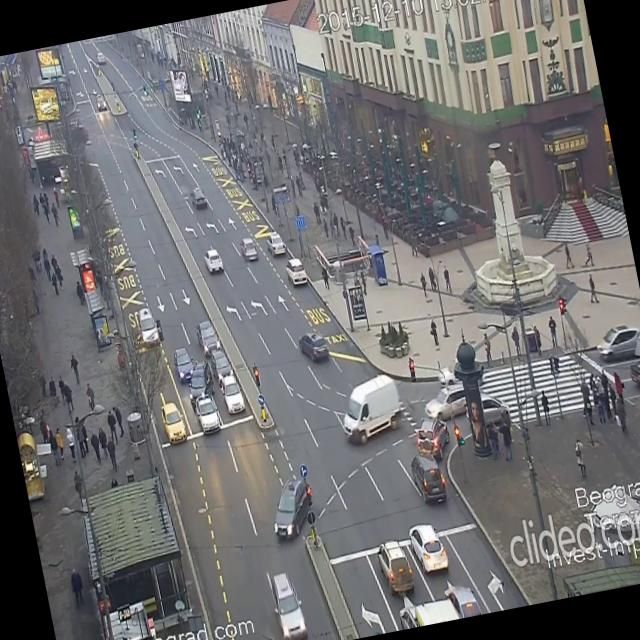bus: (404, 602, 463, 629)
car: (335, 375, 404, 438), (265, 474, 320, 542), (265, 566, 309, 640), (375, 537, 416, 598), (407, 520, 450, 576), (419, 376, 472, 421), (464, 393, 516, 438), (411, 448, 446, 501), (411, 412, 451, 458), (445, 578, 481, 620), (598, 324, 640, 357), (184, 357, 210, 407), (160, 400, 188, 445), (220, 374, 246, 418), (298, 329, 330, 364), (198, 322, 225, 357), (196, 398, 222, 434), (211, 351, 236, 388), (138, 309, 160, 345), (284, 256, 308, 287), (203, 247, 225, 275), (238, 236, 258, 263), (174, 352, 193, 379), (265, 230, 286, 254), (190, 186, 208, 210), (628, 355, 640, 391), (97, 95, 107, 114), (95, 50, 105, 67)
